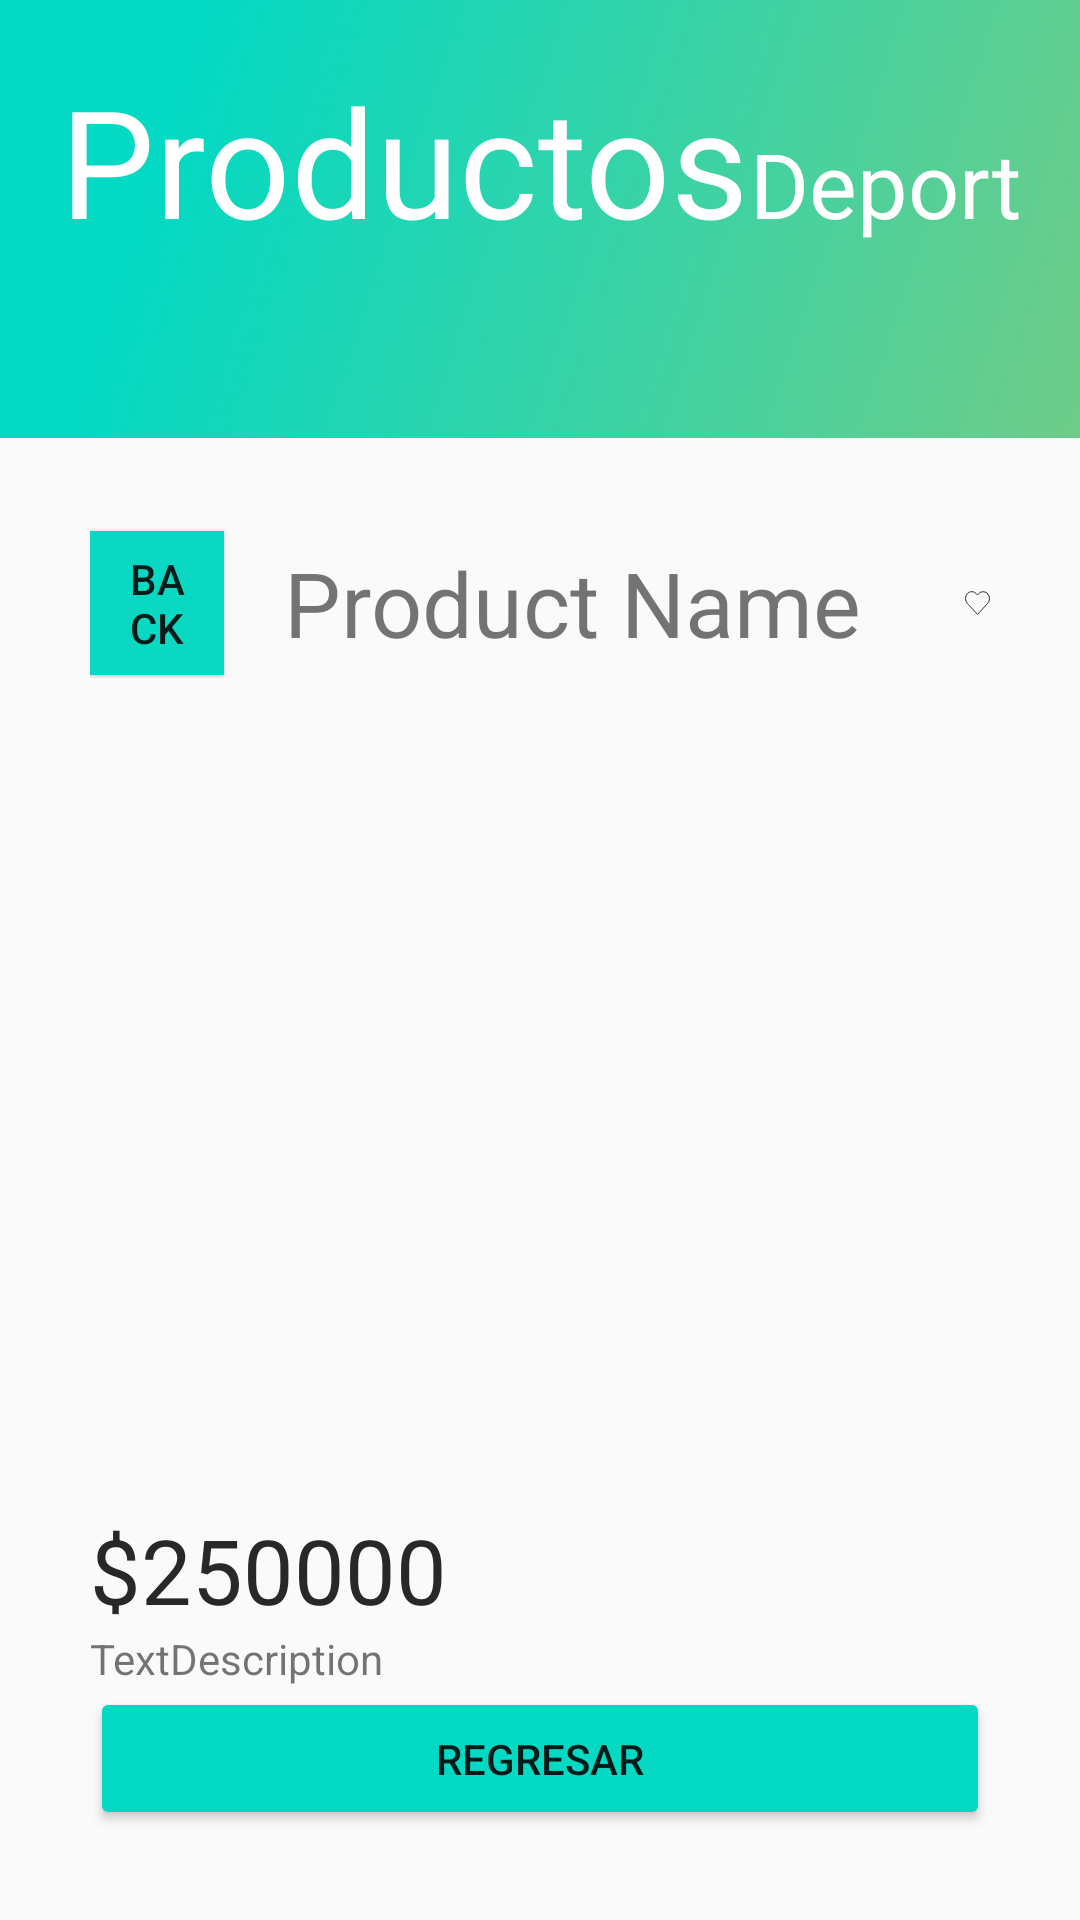

Named icons in this screenshot (1080*1920) and their centers, point (x, y):
corazon: point (977, 603)
